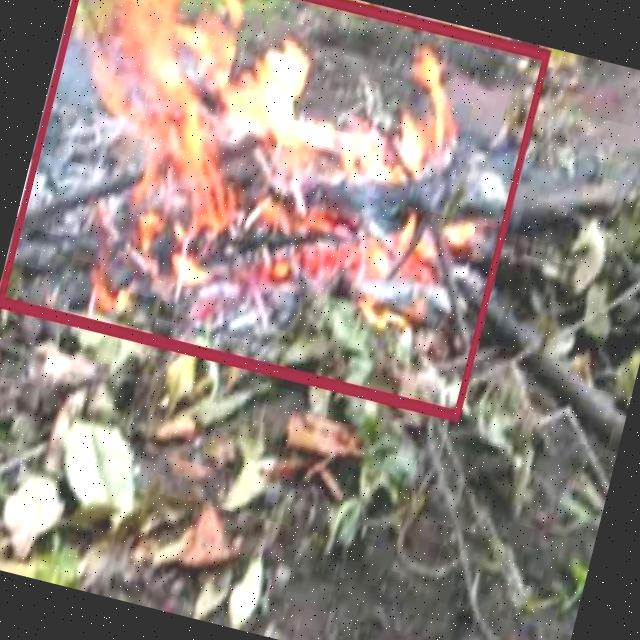fire: (0, 0, 549, 418)
